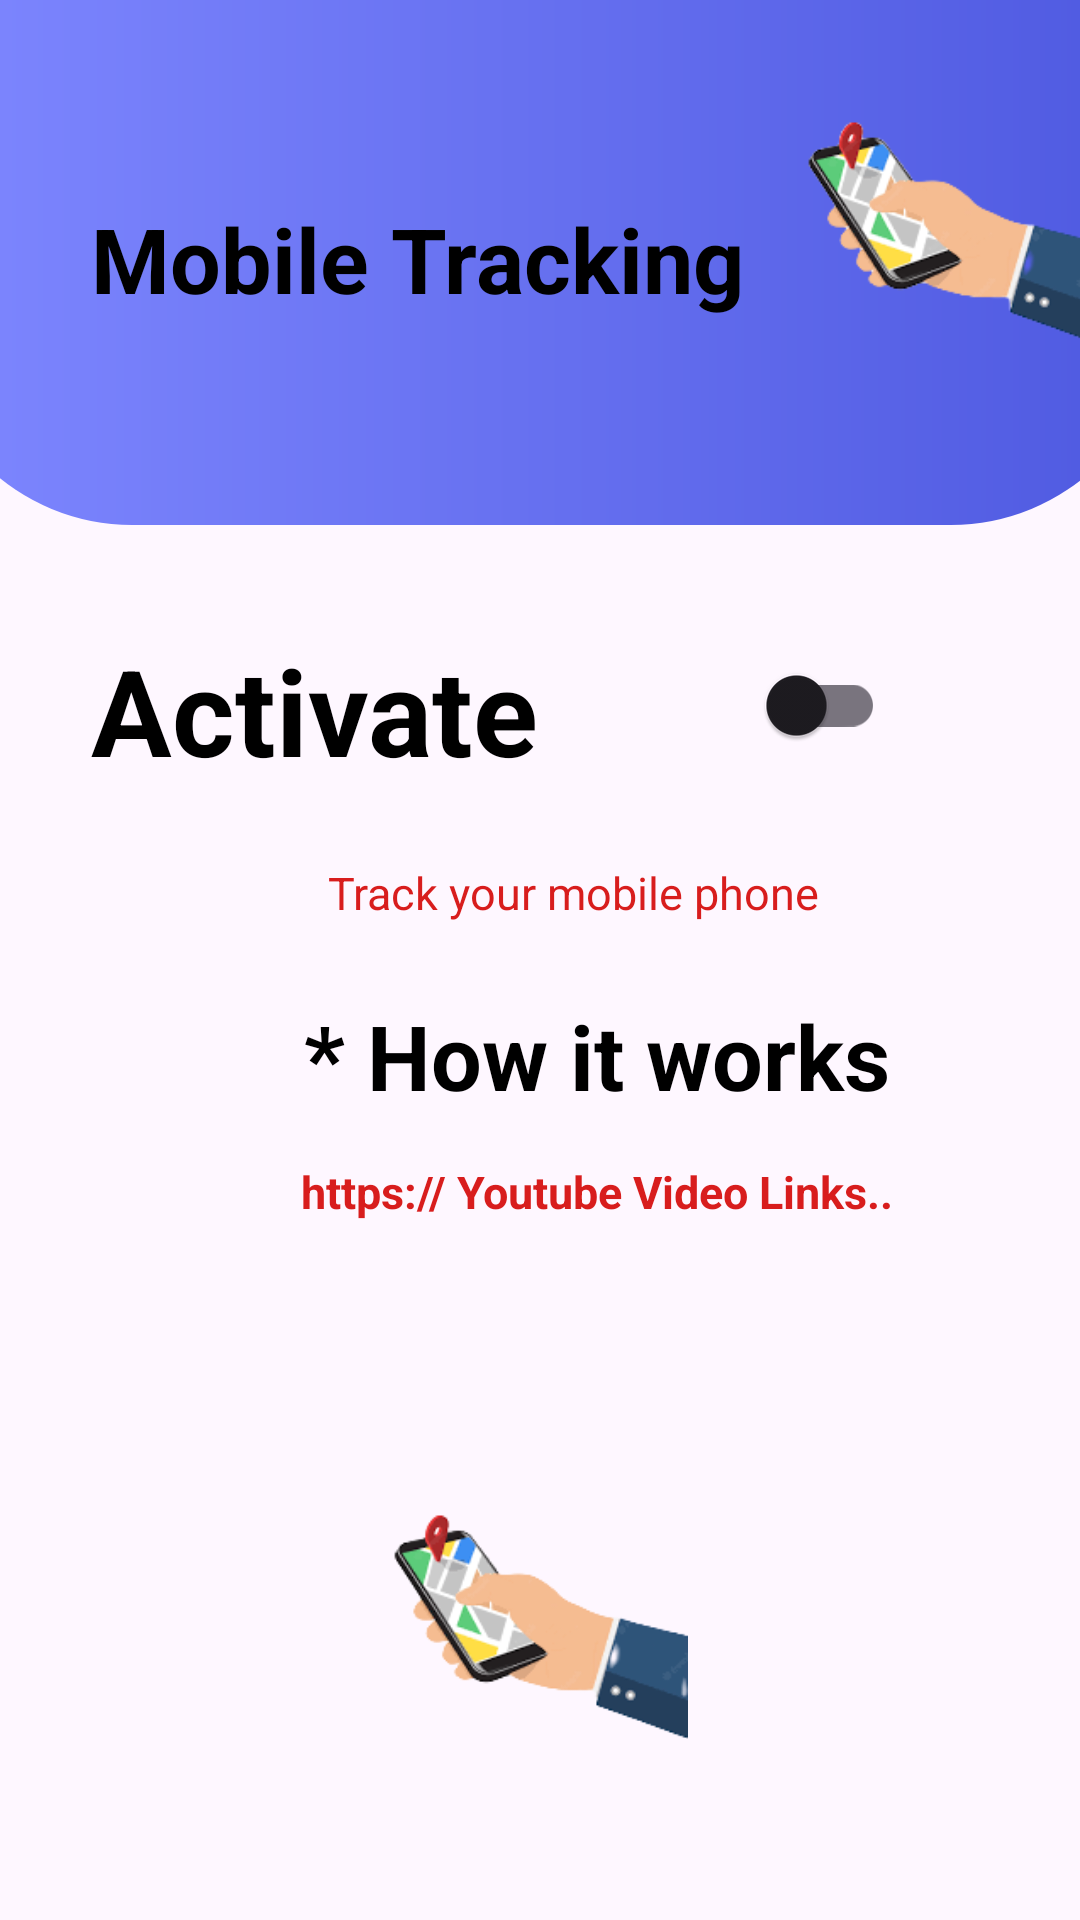

Icons on this 1080×1920 Android screen, each with the point to tap as point (x, y):
trackmobile: point (944, 230), point (541, 1627)
